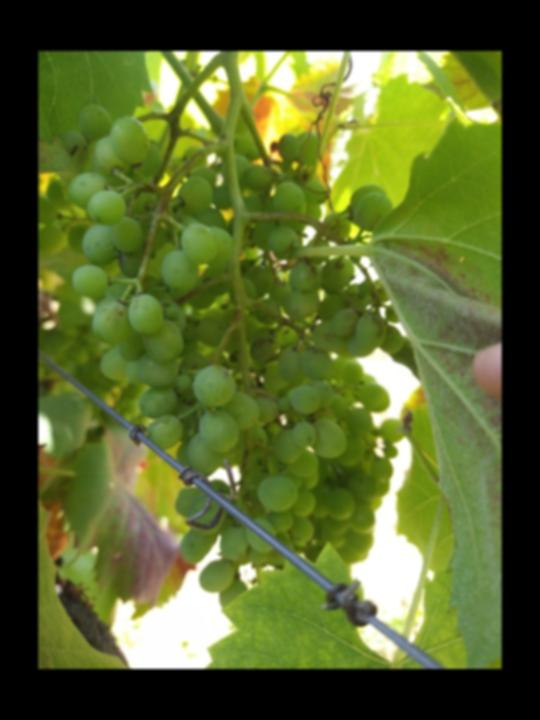grape: (58, 103, 405, 611)
